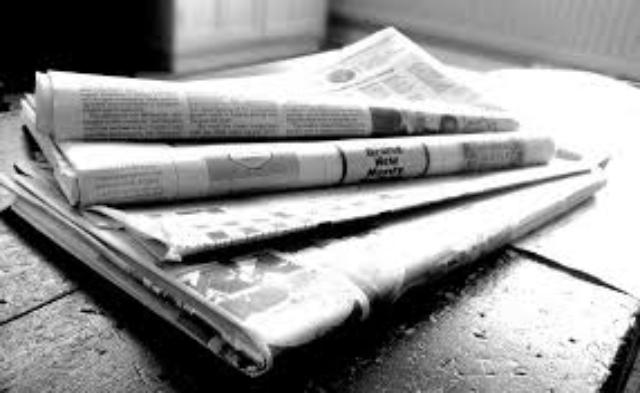cardboard paper: (0, 25, 600, 371), (34, 25, 512, 137)
